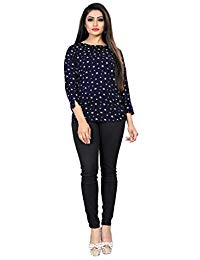tops: (63, 35, 137, 122)
